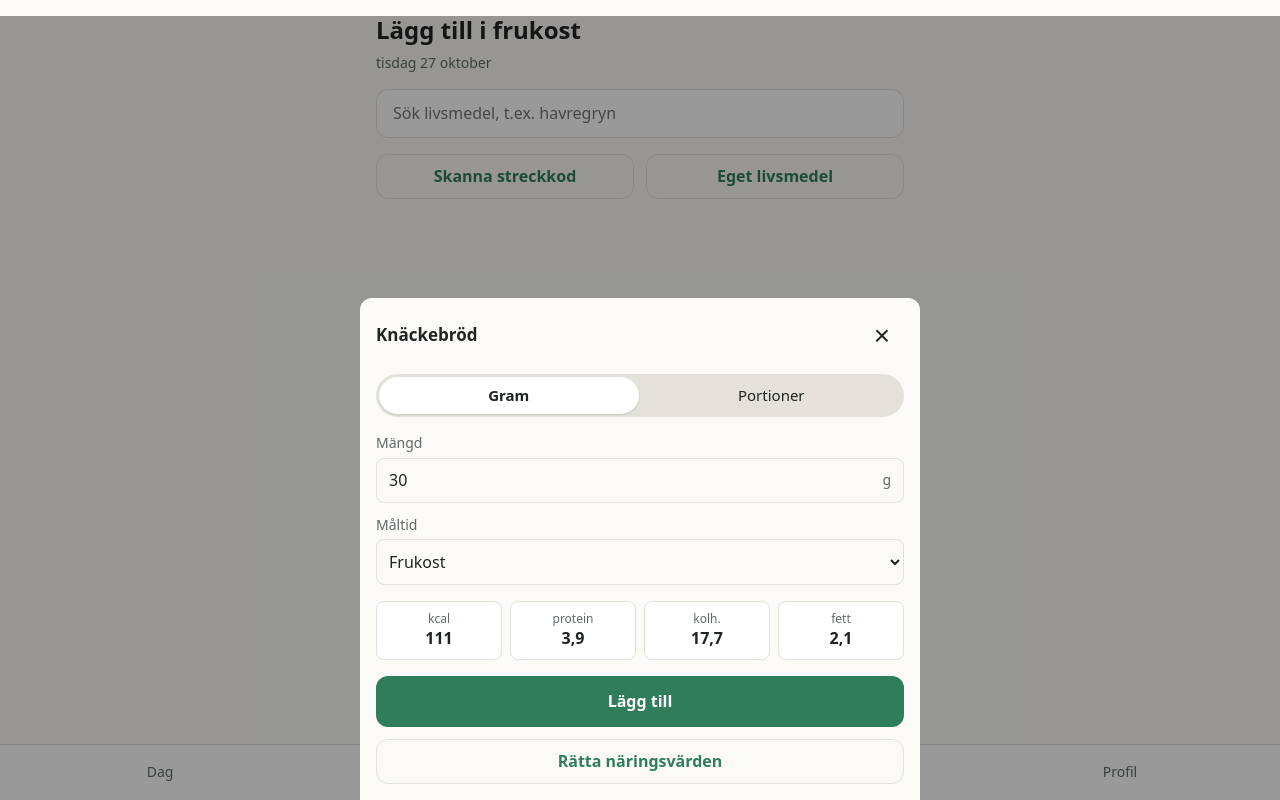
Test: behåller exakt mängd i gram när enheten byts fram och tillbaka
The image size is (1280, 800).
Replace the text in the field labelled "Mängd" with "10" at (630, 480), box [377,459,882,502]
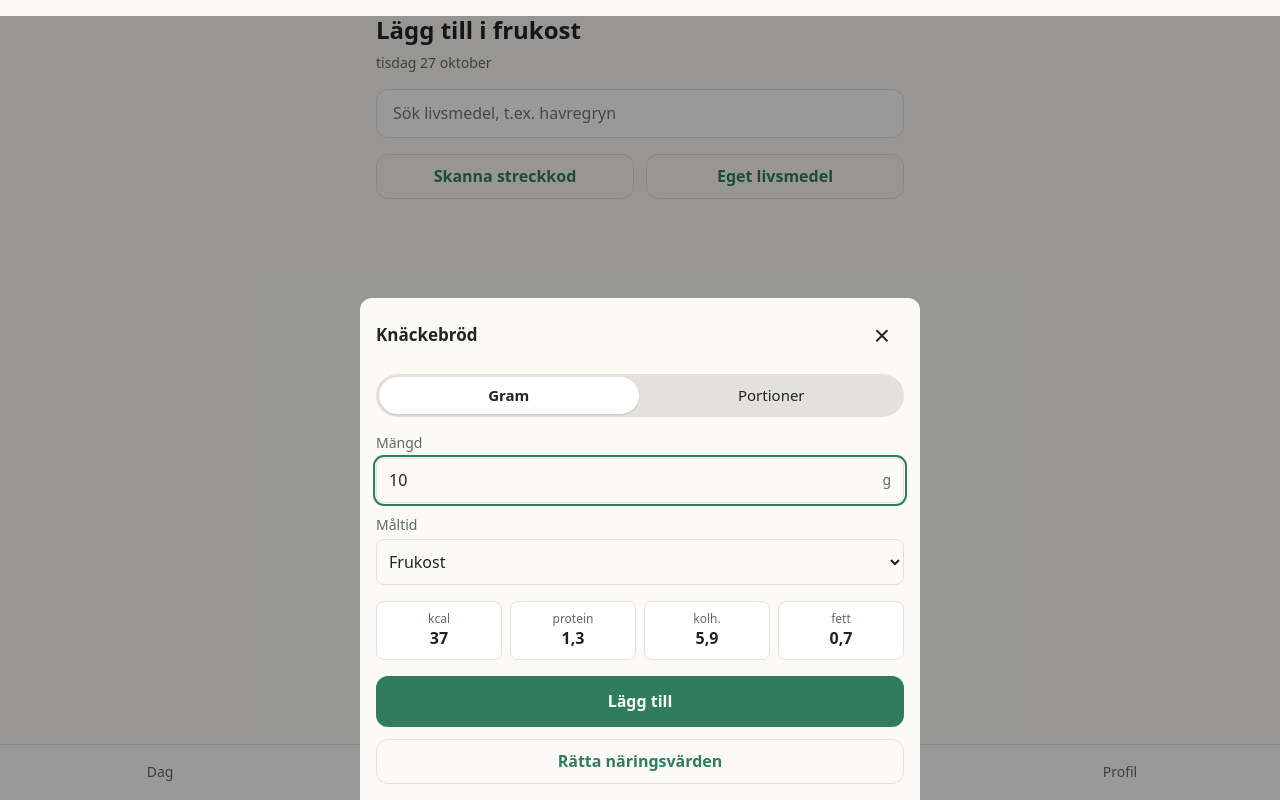
Click the radio button labelled "Portioner" at (771, 394), box [738,384,804,404]
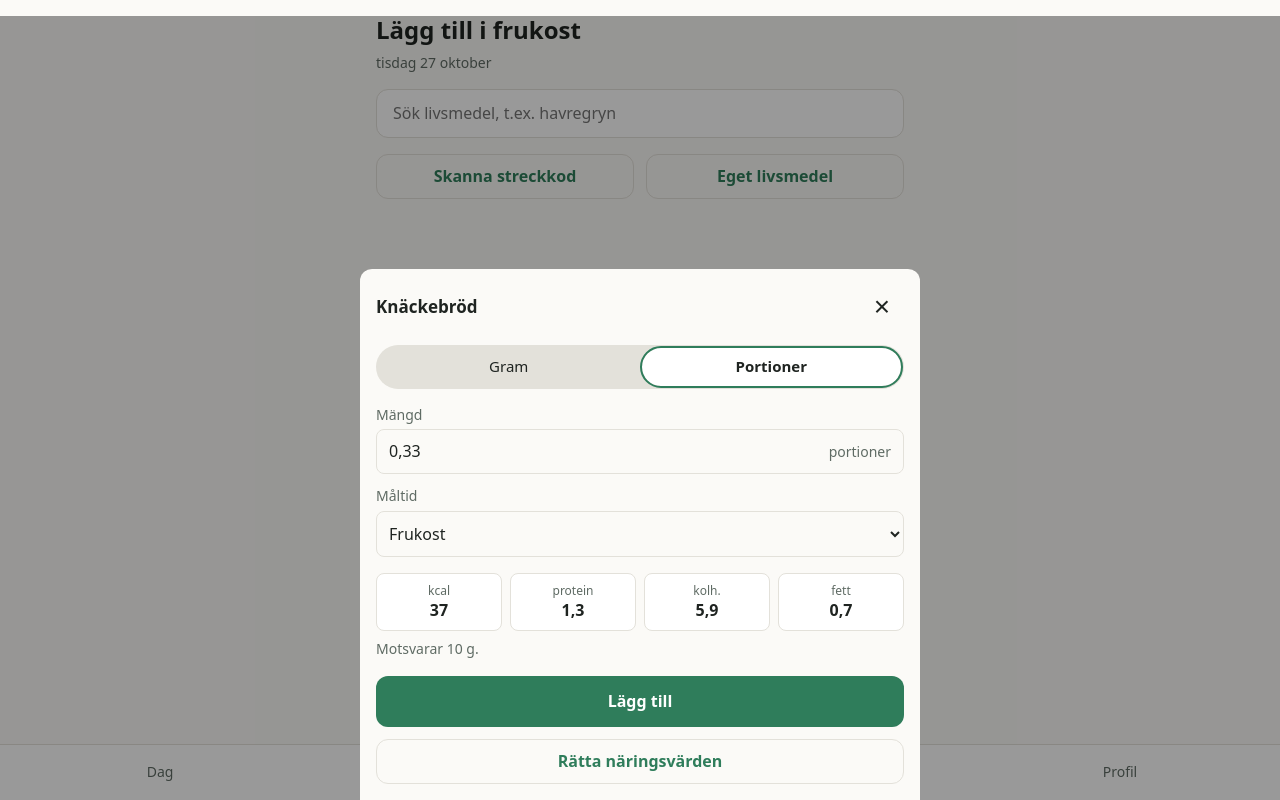
Expected: the field labelled "Mängd" holds "0,33", [377,430,829,474]
Expected: the text "Motsvarar 10 g." is shown, [376,639,479,658]
Click the radio button labelled "Gram" at (509, 366), box [489,356,528,376]
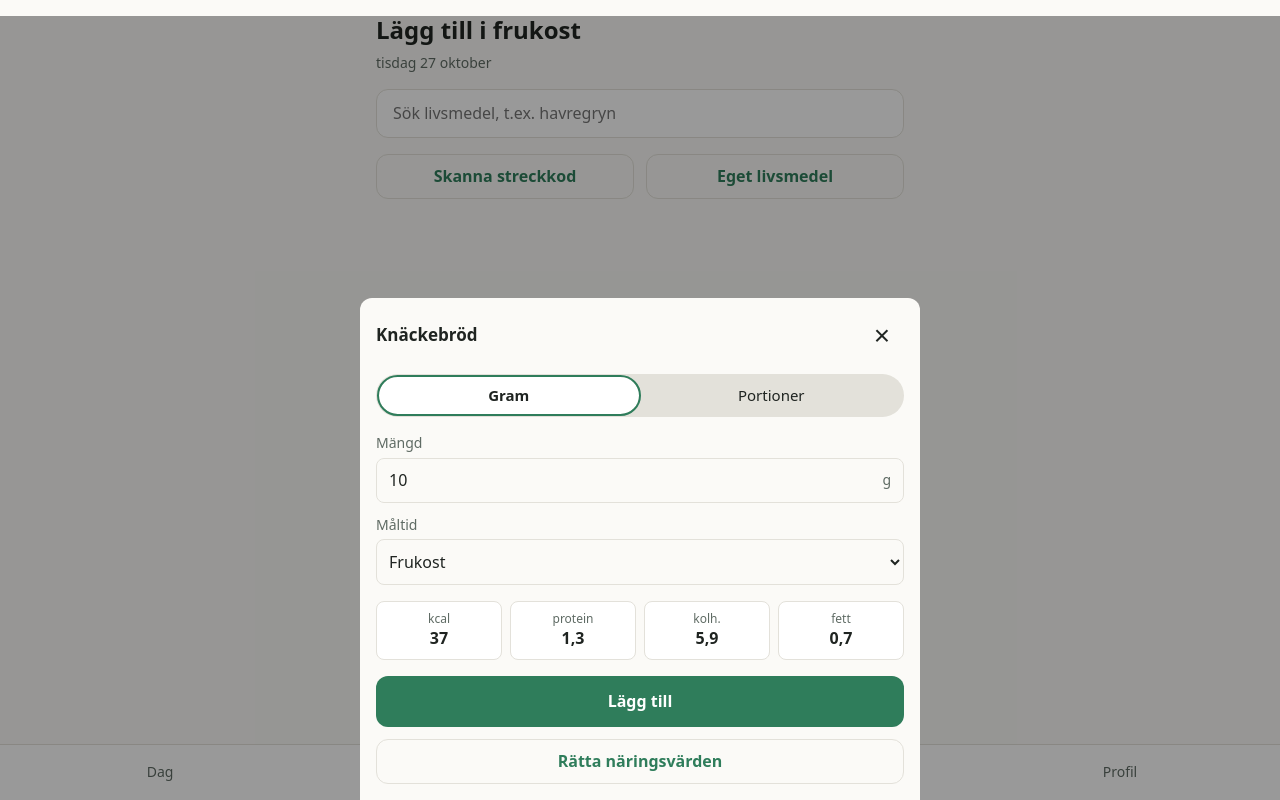
Click the button "Lägg till" at (640, 701), box [376,676,904,727]
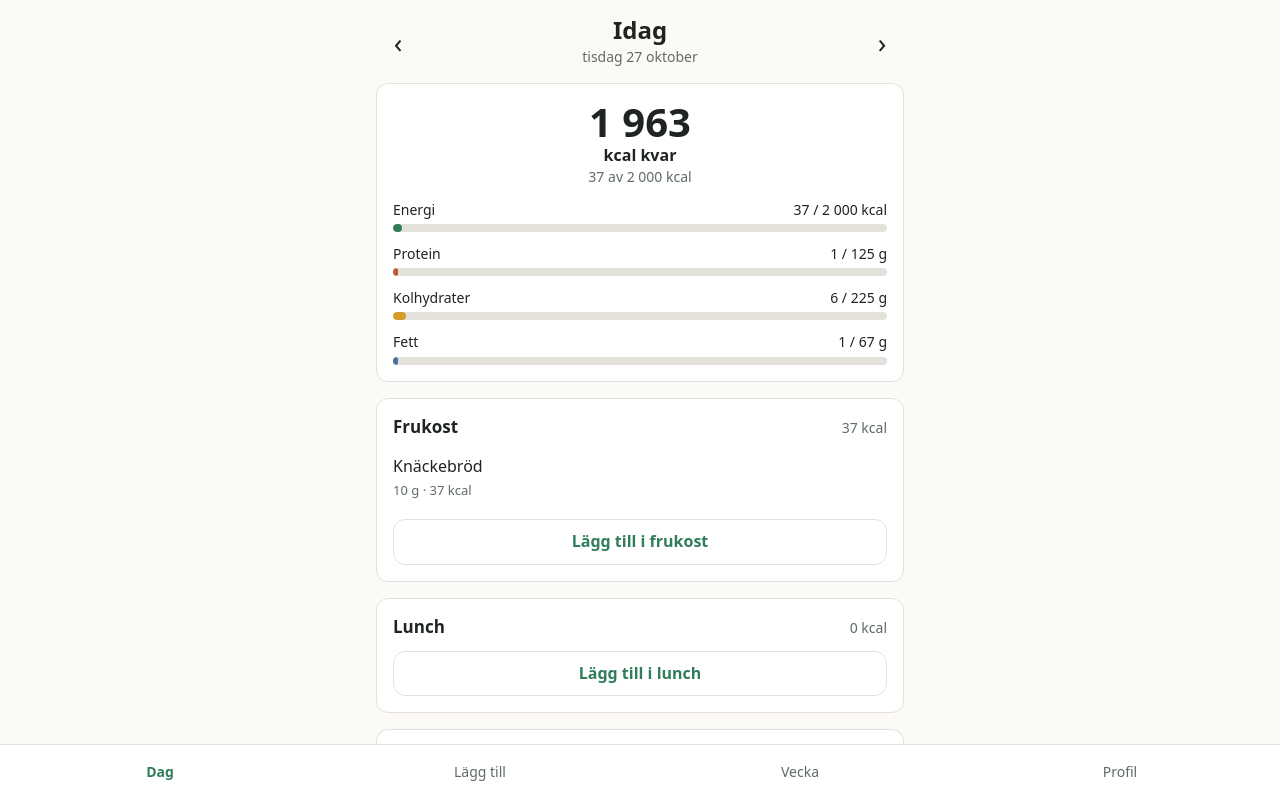
Expected: the heading "Idag" is shown, [613,13,667,46]
